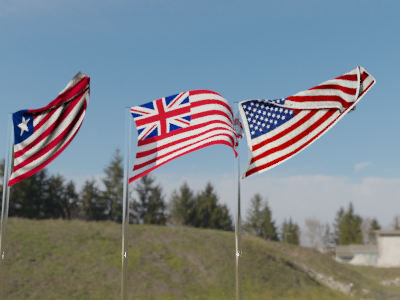America flag: (246, 66, 377, 177)
Liberia flag: (13, 71, 95, 184)
Malaysia flag: (131, 88, 240, 182)
